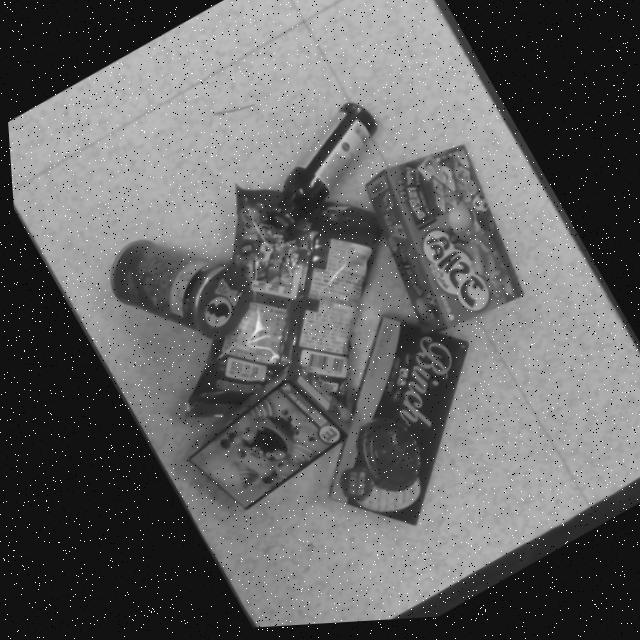bongji: (180, 188, 376, 418)
box: (362, 149, 519, 337), (322, 323, 461, 529), (182, 366, 345, 511)
canSnack: (105, 240, 246, 342)
energdrink: (264, 105, 374, 231)
